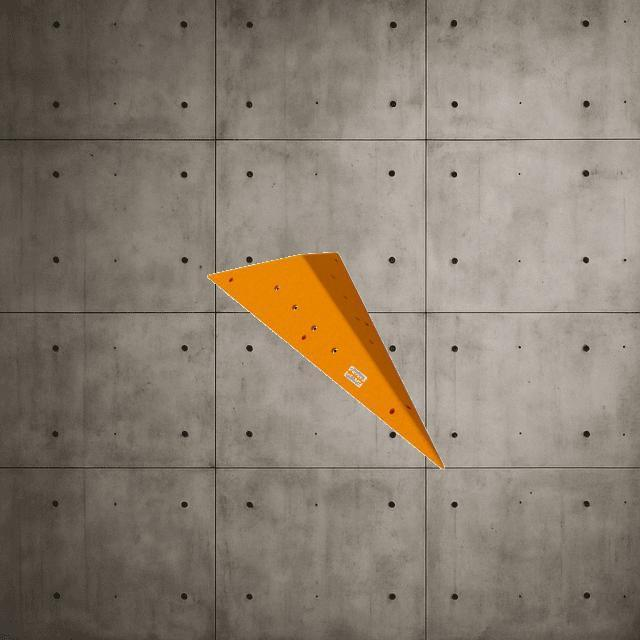Volume: (206, 251, 446, 469)
